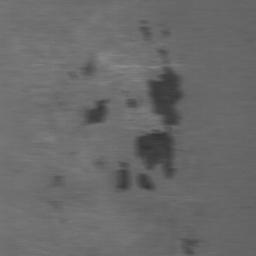Iron scale compression: (147, 47, 183, 125), (133, 130, 176, 192), (84, 97, 112, 125), (115, 162, 132, 191), (181, 237, 202, 256), (82, 58, 96, 76), (141, 25, 150, 41), (128, 98, 140, 109)
